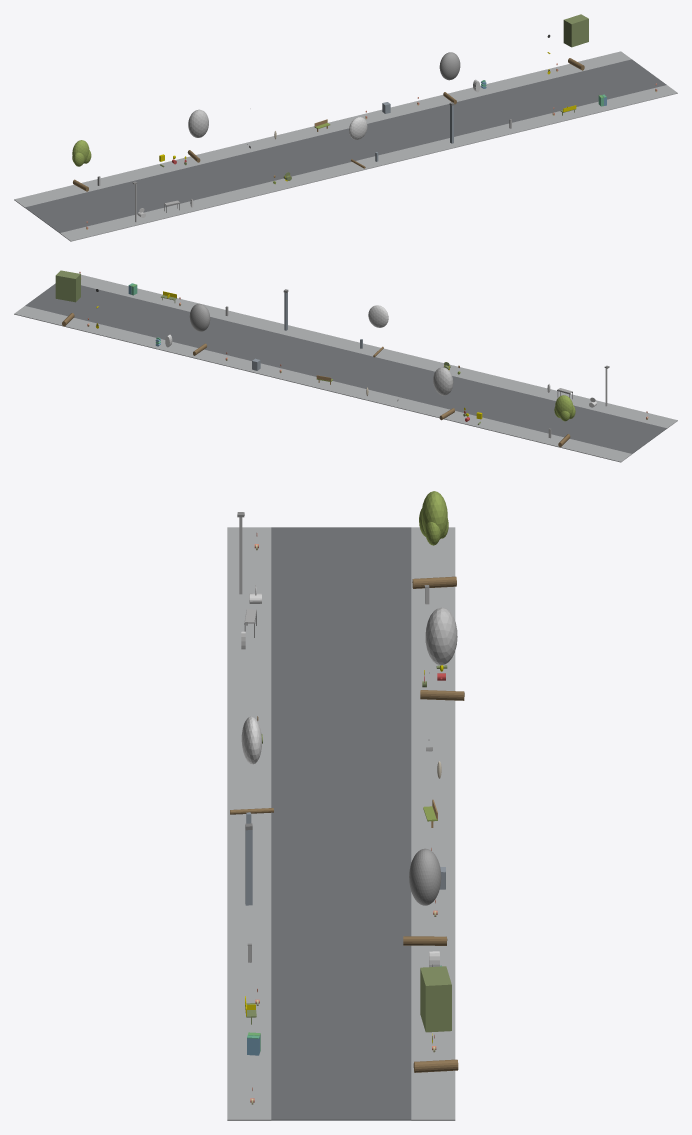
3 renders of one model, top to bottom at view 1: azimuth 30°, elevation 25°; view 2: azimuth 150°, elevation 25°; view 3: azimuth 270°, elevation 25°, orthographic. The views are drawn at different scales.
Parts seen in each view (by area): view 1: road_slab, sidewalk_left, sidewalk_right, inst_0016, inst_0013, inst_0015, inst_0012, inst_0014; view 2: road_slab, sidewalk_right, sidewalk_left, inst_0016, inst_0013, inst_0015, inst_0012, inst_0014; view 3: road_slab, sidewalk_left, sidewalk_right, inst_0016, inst_0013, inst_0015, inst_0012, inst_0014.
Part boxes in pixels (x1,y1,x2,y2): road_slab: [25, 59, 666, 233]; sidewalk_left: [60, 85, 677, 241]; sidewalk_right: [14, 51, 631, 207]; inst_0016: [563, 14, 588, 70]; inst_0013: [187, 109, 208, 162]; inst_0015: [439, 52, 460, 104]; inst_0012: [72, 140, 91, 191]; inst_0014: [349, 117, 367, 168]; road_slab: [25, 283, 666, 453]; sidewalk_right: [14, 306, 631, 462]; sidewalk_left: [81, 274, 677, 428]; inst_0016: [55, 270, 80, 326]; inst_0013: [433, 367, 454, 420]; inst_0015: [189, 303, 210, 355]; inst_0012: [554, 395, 575, 447]; inst_0014: [368, 305, 388, 357]; road_slab: [271, 527, 411, 1120]; sidewalk_left: [227, 527, 271, 1120]; sidewalk_right: [411, 527, 455, 1120]; inst_0016: [413, 966, 458, 1072]; inst_0013: [420, 607, 464, 700]; inst_0015: [403, 848, 447, 945]; inst_0012: [412, 491, 456, 588]; inst_0014: [230, 716, 273, 814].
Bounding box in the file's own units: 80 × 6.08 × 13.53.
